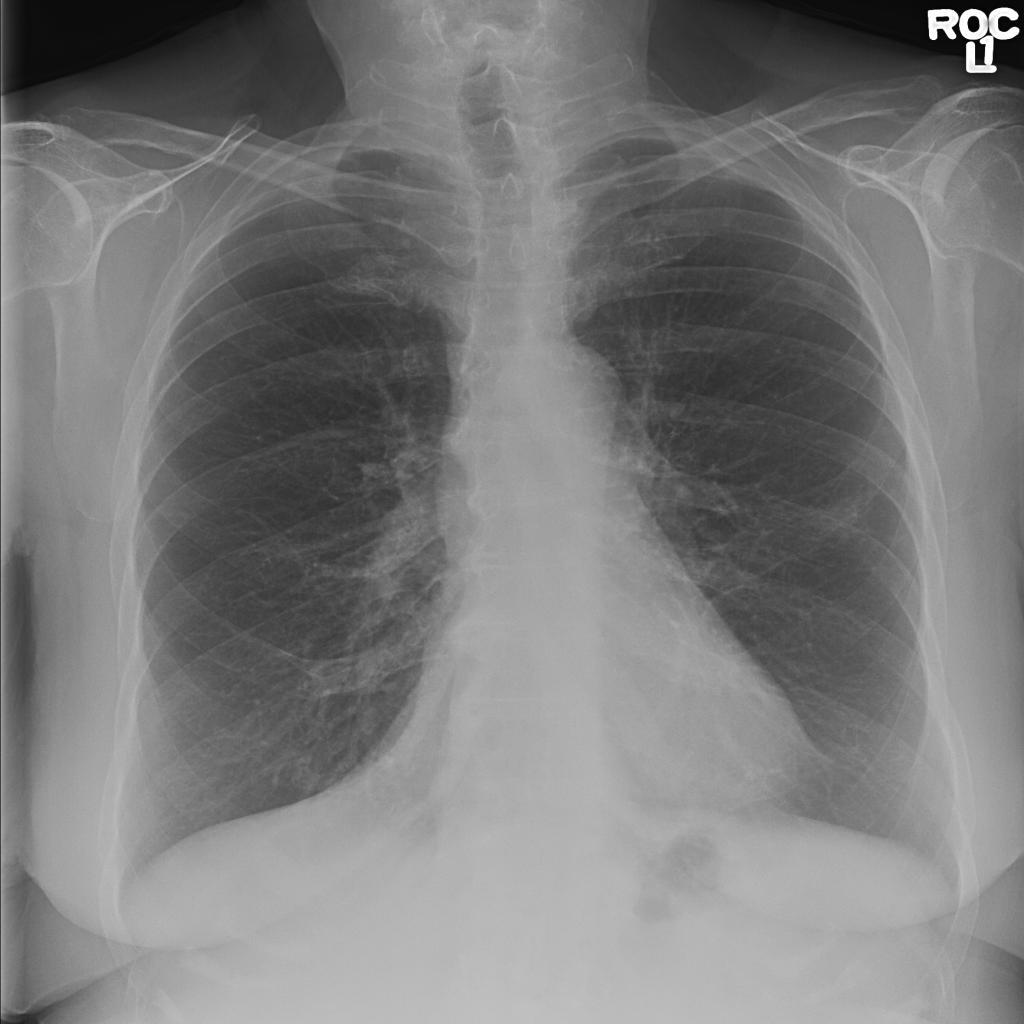Nodule: (475, 252, 517, 277), (107, 277, 140, 301)
